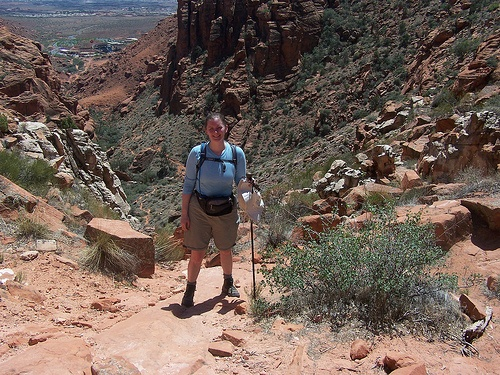head: (203, 114, 230, 143)
person: (173, 106, 259, 309)
